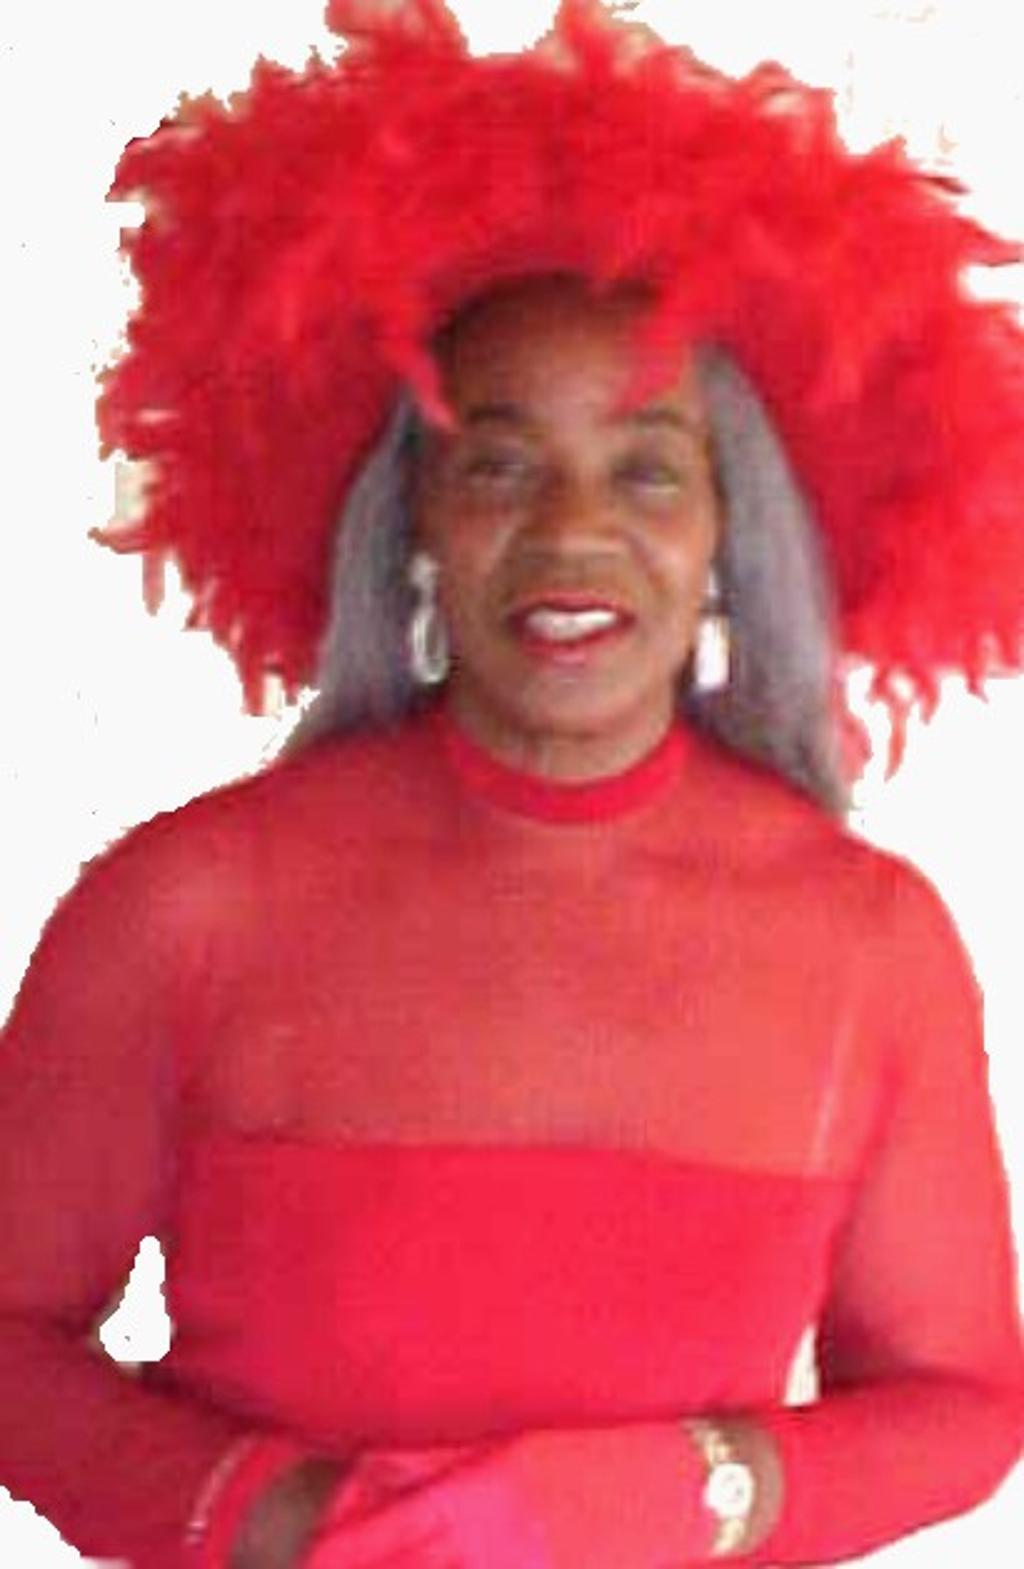face: (411, 279, 718, 736)
